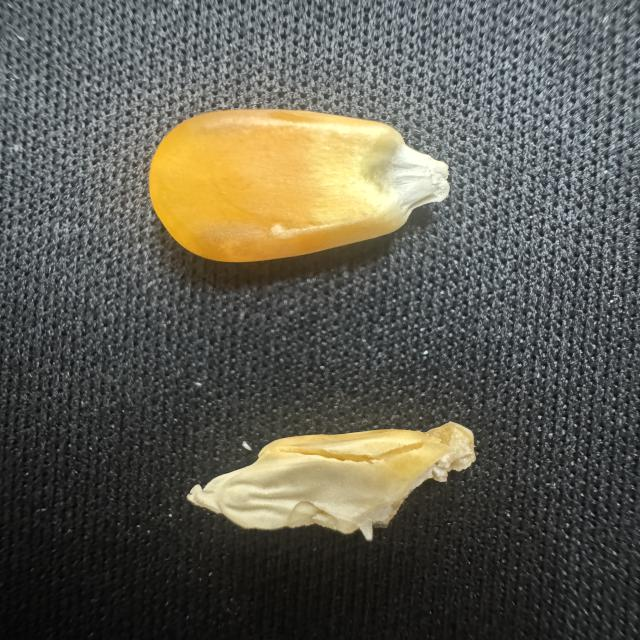Bad-Seed: (181, 415, 492, 541)
Good-Seed: (134, 104, 460, 267)
